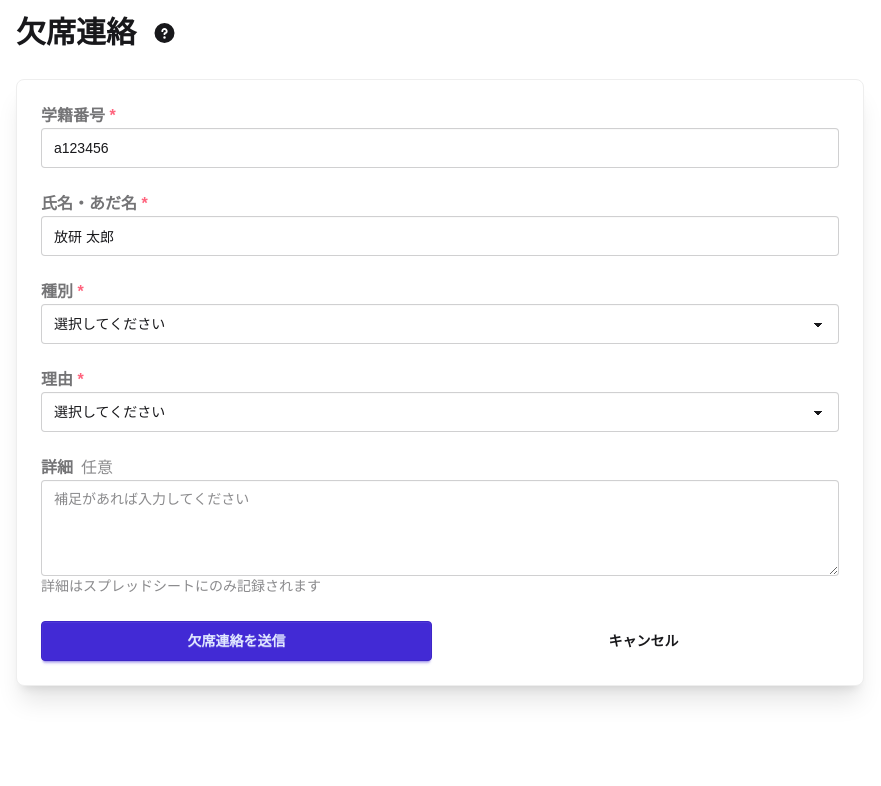
Test: AbsenceFormContent › 送信例外時はエラーと入力内容を保持する
Select "欠席" in the dropdown below "種別" at (440, 324), box [41,304,839,344]
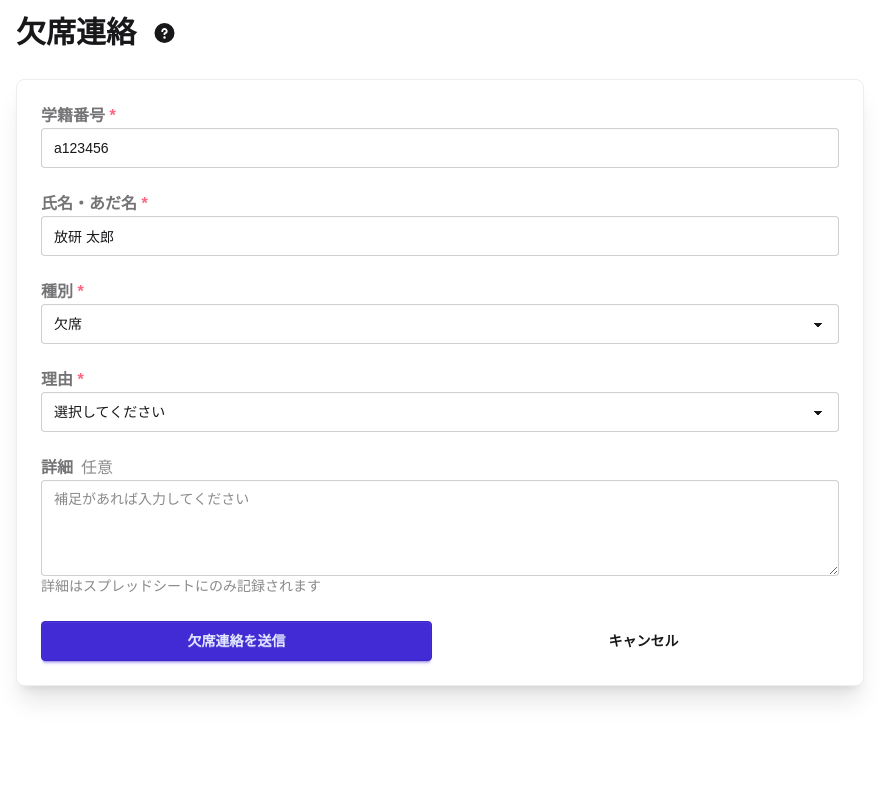
Select "体調不良" in the dropdown below "理由" at (440, 412), box [41,392,839,432]
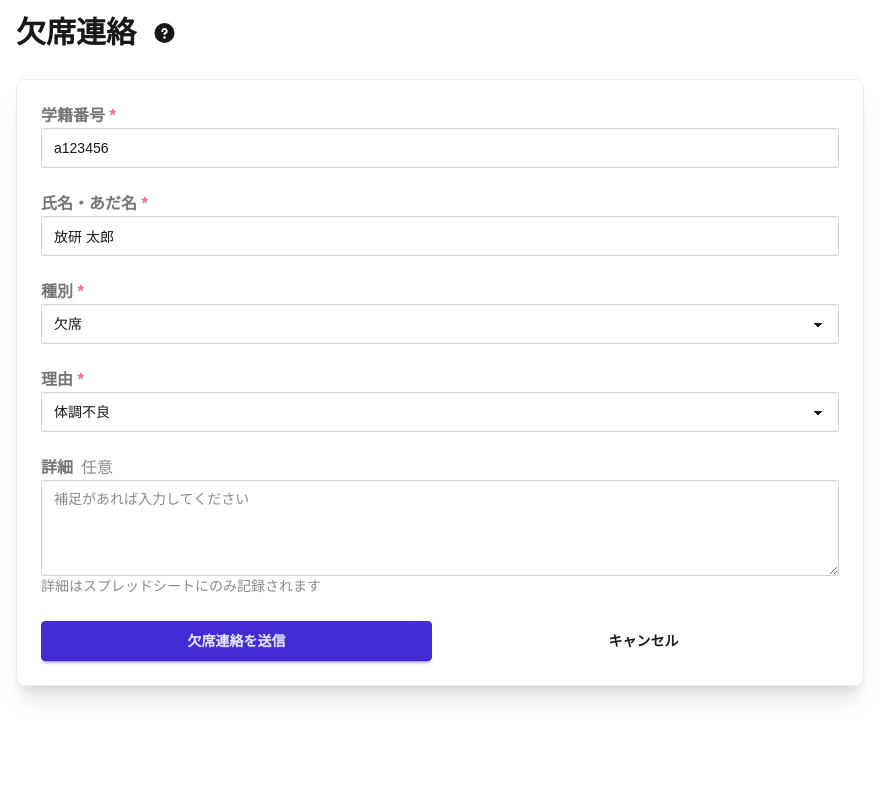
Click the button "欠席連絡を送信".
click(236, 641)  # box [41,621,432,661]
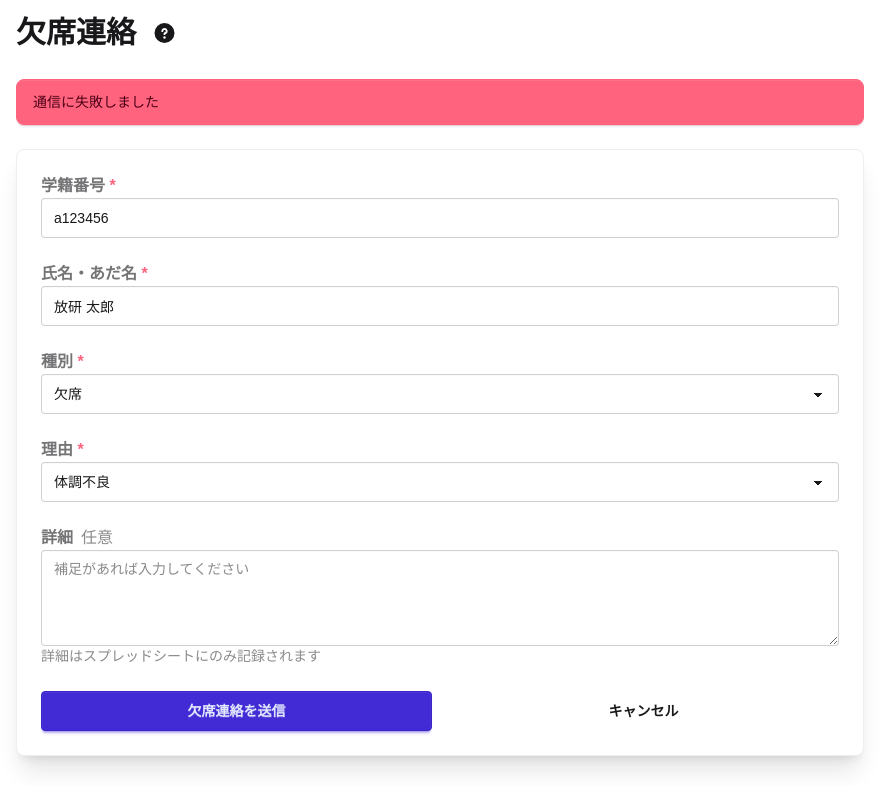
Expected: the text "通信に失敗しました" is shown, [33,92,159,112]
